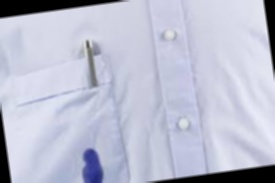ink: (81, 148, 105, 183)
